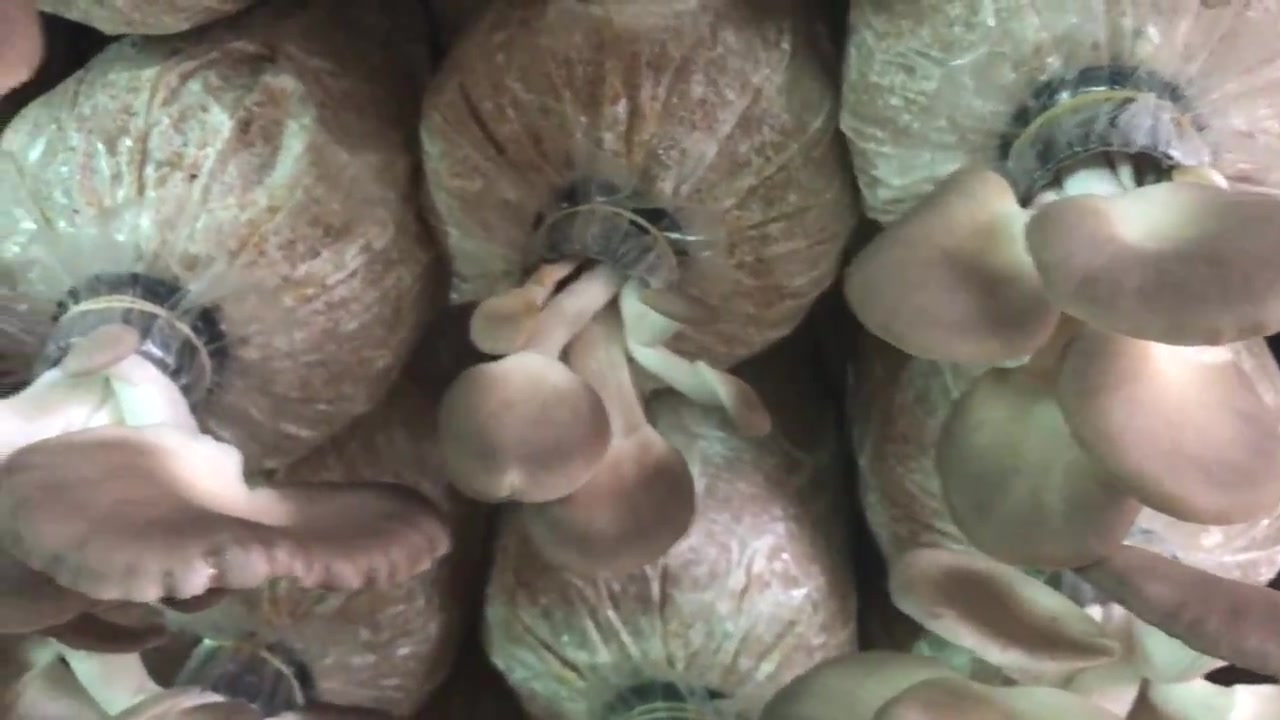nam: (839, 67, 1278, 574), (1, 273, 452, 602), (439, 188, 774, 580), (761, 545, 1275, 720)
